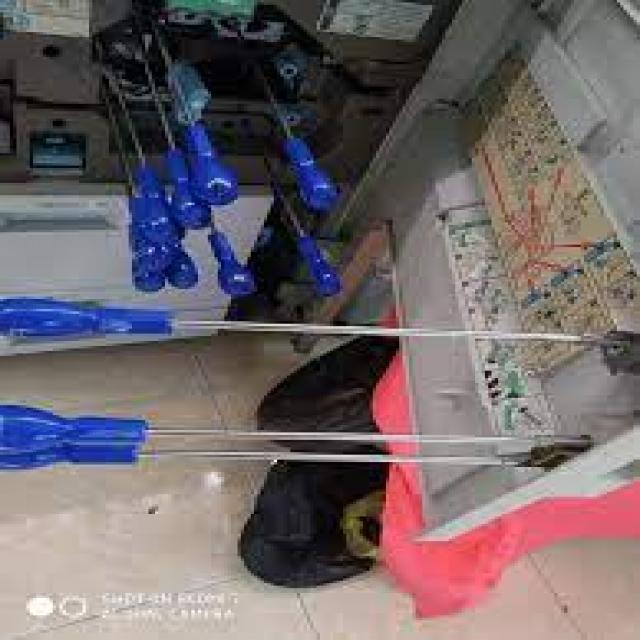screwdriver: (0, 290, 630, 354), (0, 401, 600, 446), (142, 8, 241, 206), (0, 442, 564, 474), (98, 95, 182, 276), (132, 43, 211, 234), (106, 65, 184, 248), (256, 153, 351, 302), (254, 64, 343, 210)
